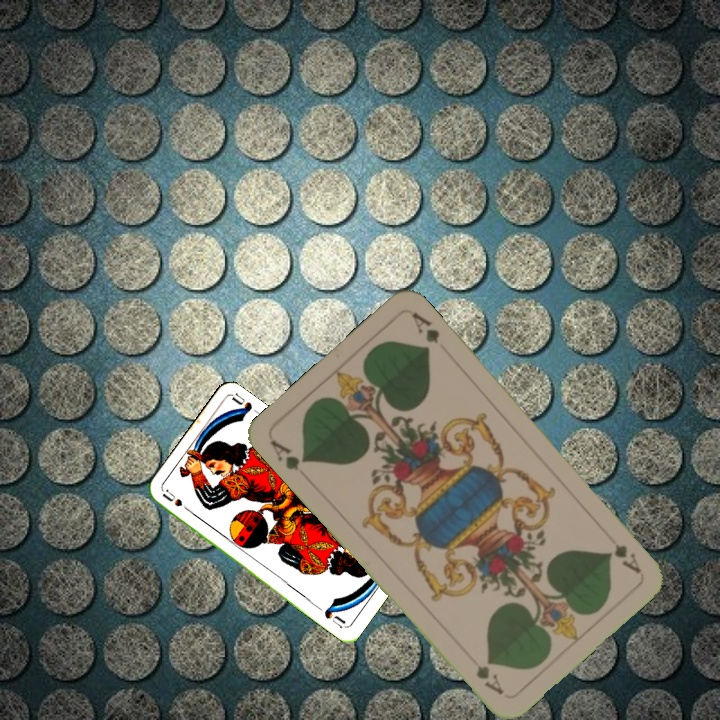GA: (266, 435, 312, 473), (607, 539, 643, 576)
SU: (159, 487, 196, 517)
